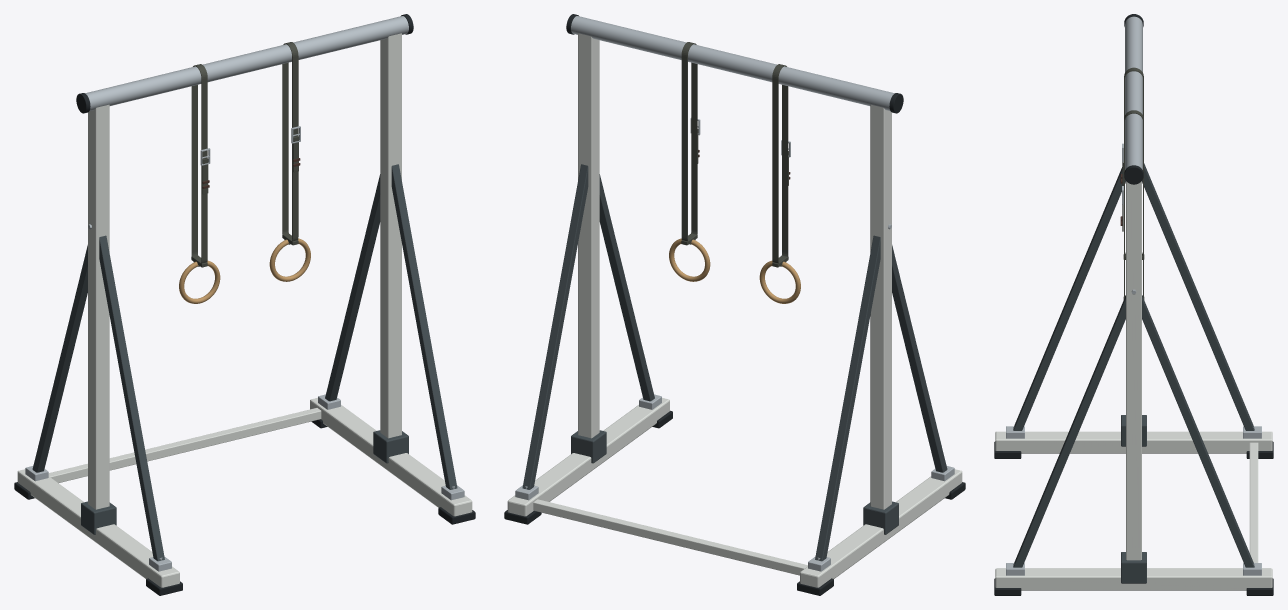
The model's file is city-gymnastic-ring-frame.glb.
The picture shows the model from 3 angles, left to right: view 1: azimuth 30°, elevation 25°; view 2: azimuth 150°, elevation 25°; view 3: azimuth 270°, elevation 25°; orthographic projection. The views are drawn at different scales.
Visible parts, largest first — view 1: Assembly | Warm light frame coating, Assembly | Powder-coated graphite steel, Assembly | Satin small metal fittings, Assembly | Dark woven strap appearance, Assembly | Dark rubber foot pads, Assembly | Plain warm ring wood; view 2: Assembly | Warm light frame coating, Assembly | Powder-coated graphite steel, Assembly | Satin small metal fittings, Assembly | Dark woven strap appearance, Assembly | Dark rubber foot pads, Assembly | Plain warm ring wood; view 3: Assembly | Warm light frame coating, Assembly | Powder-coated graphite steel, Assembly | Satin small metal fittings, Assembly | Dark rubber foot pads, Assembly | Dark woven strap appearance.
Part boxes in pixels (<box>): Assembly | Warm light frame coating: <box>17,33,472,587</box>; Assembly | Powder-coated graphite steel: <box>32,164,457,561</box>; Assembly | Satin small metal fittings: <box>25,16,464,571</box>; Assembly | Dark woven strap appearance: <box>191,42,298,267</box>; Assembly | Dark rubber foot pads: <box>14,14,475,595</box>; Assembly | Plain warm ring wood: <box>179,238,310,303</box>; Assembly | Warm light frame coating: <box>507,33,962,587</box>; Assembly | Powder-coated graphite steel: <box>522,164,947,561</box>; Assembly | Satin small metal fittings: <box>515,16,954,571</box>; Assembly | Dark woven strap appearance: <box>681,42,788,267</box>; Assembly | Dark rubber foot pads: <box>504,14,965,595</box>; Assembly | Plain warm ring wood: <box>669,238,800,303</box>; Assembly | Warm light frame coating: <box>995,181,1272,590</box>; Assembly | Powder-coated graphite steel: <box>1013,163,1254,583</box>; Assembly | Satin small metal fittings: <box>1006,16,1261,575</box>; Assembly | Dark rubber foot pads: <box>994,14,1273,595</box>; Assembly | Dark woven strap appearance: <box>1122,67,1144,299</box>.
Size of the model in its own units: 2.42 by 3.18 by 1.86.
